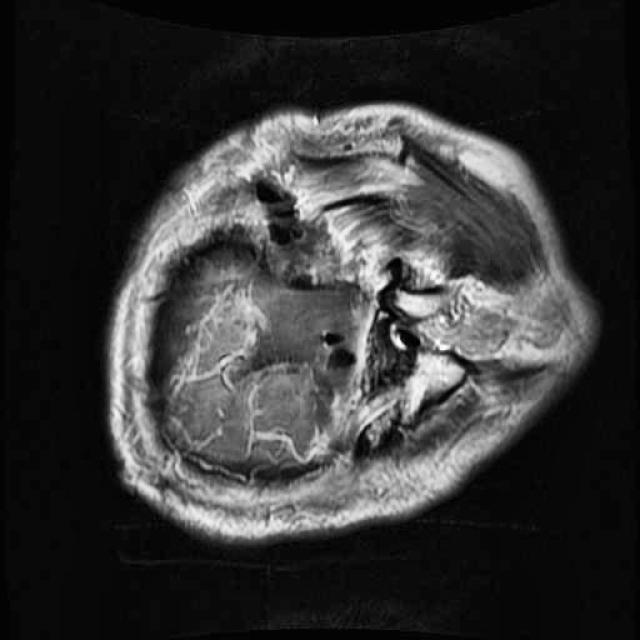Tumor: (220, 258, 398, 404)
